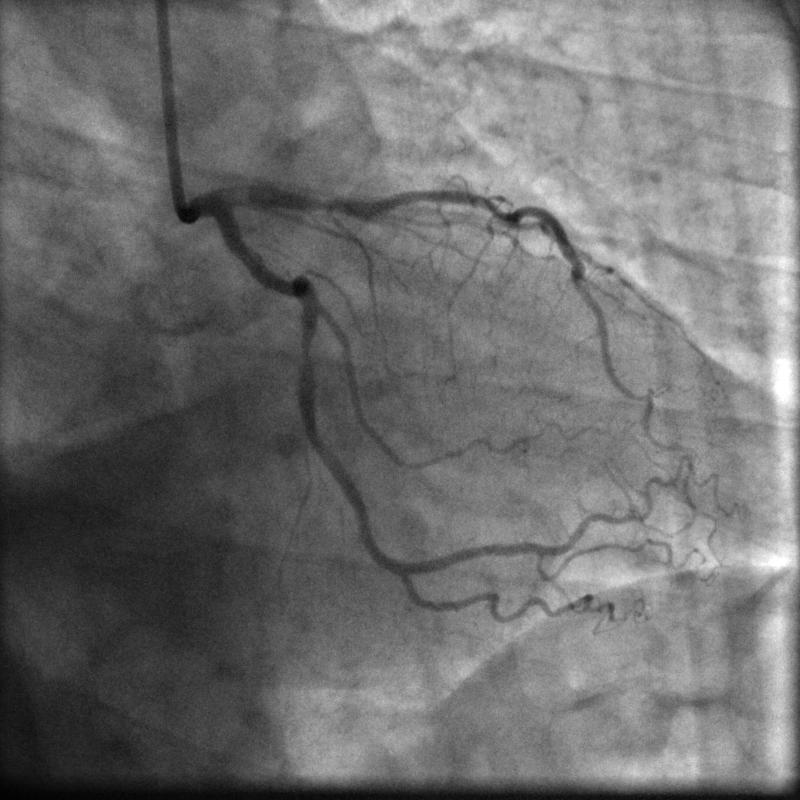Stenosis: (299, 340, 310, 364)
